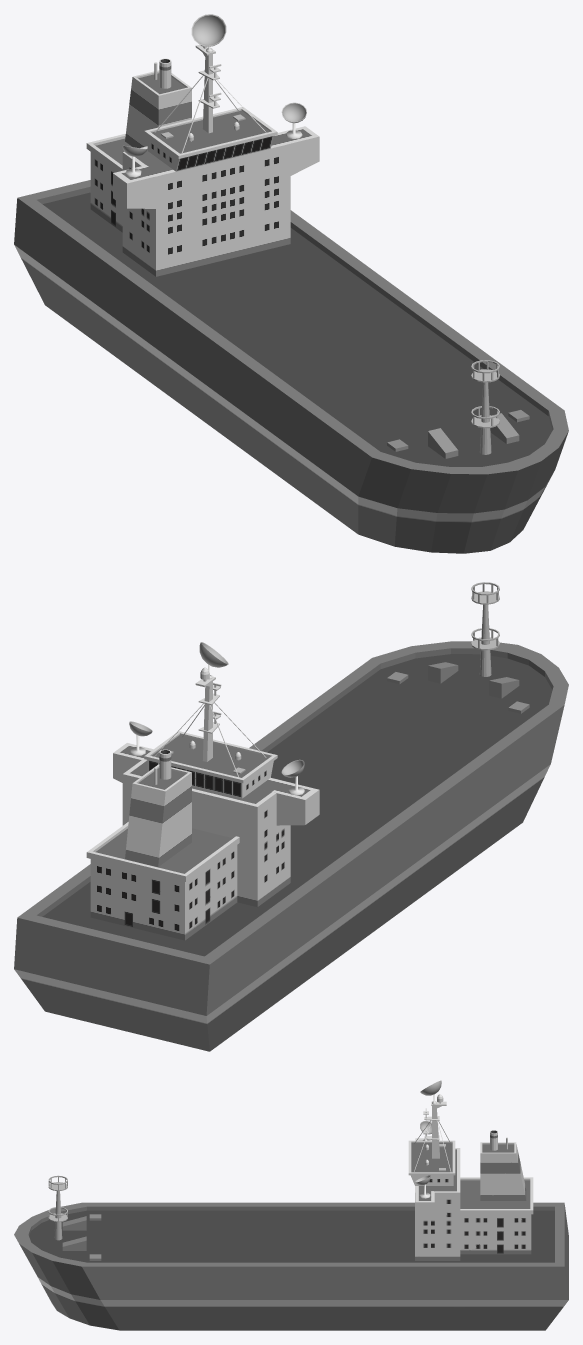
Rendered from HelicopterShip.fbx.
3 renders of one model, top to bottom at view 1: azimuth 30°, elevation 25°; view 2: azimuth 150°, elevation 25°; view 3: azimuth 270°, elevation 25°, orthographic. The views are drawn at different scales.
Visible parts, largest first — view 1: SPW_Vehicle_Water_Cargo Ship_01; view 2: SPW_Vehicle_Water_Cargo Ship_01; view 3: SPW_Vehicle_Water_Cargo Ship_01.
Boxes of the visible parts, x1,y1,x2,y2 form: SPW_Vehicle_Water_Cargo Ship_01: (14,14,568,553); SPW_Vehicle_Water_Cargo Ship_01: (14,582,568,1051); SPW_Vehicle_Water_Cargo Ship_01: (14,1080,568,1330).
Bounding box in the file's own units: 15.3 × 24.91 × 56.16.
